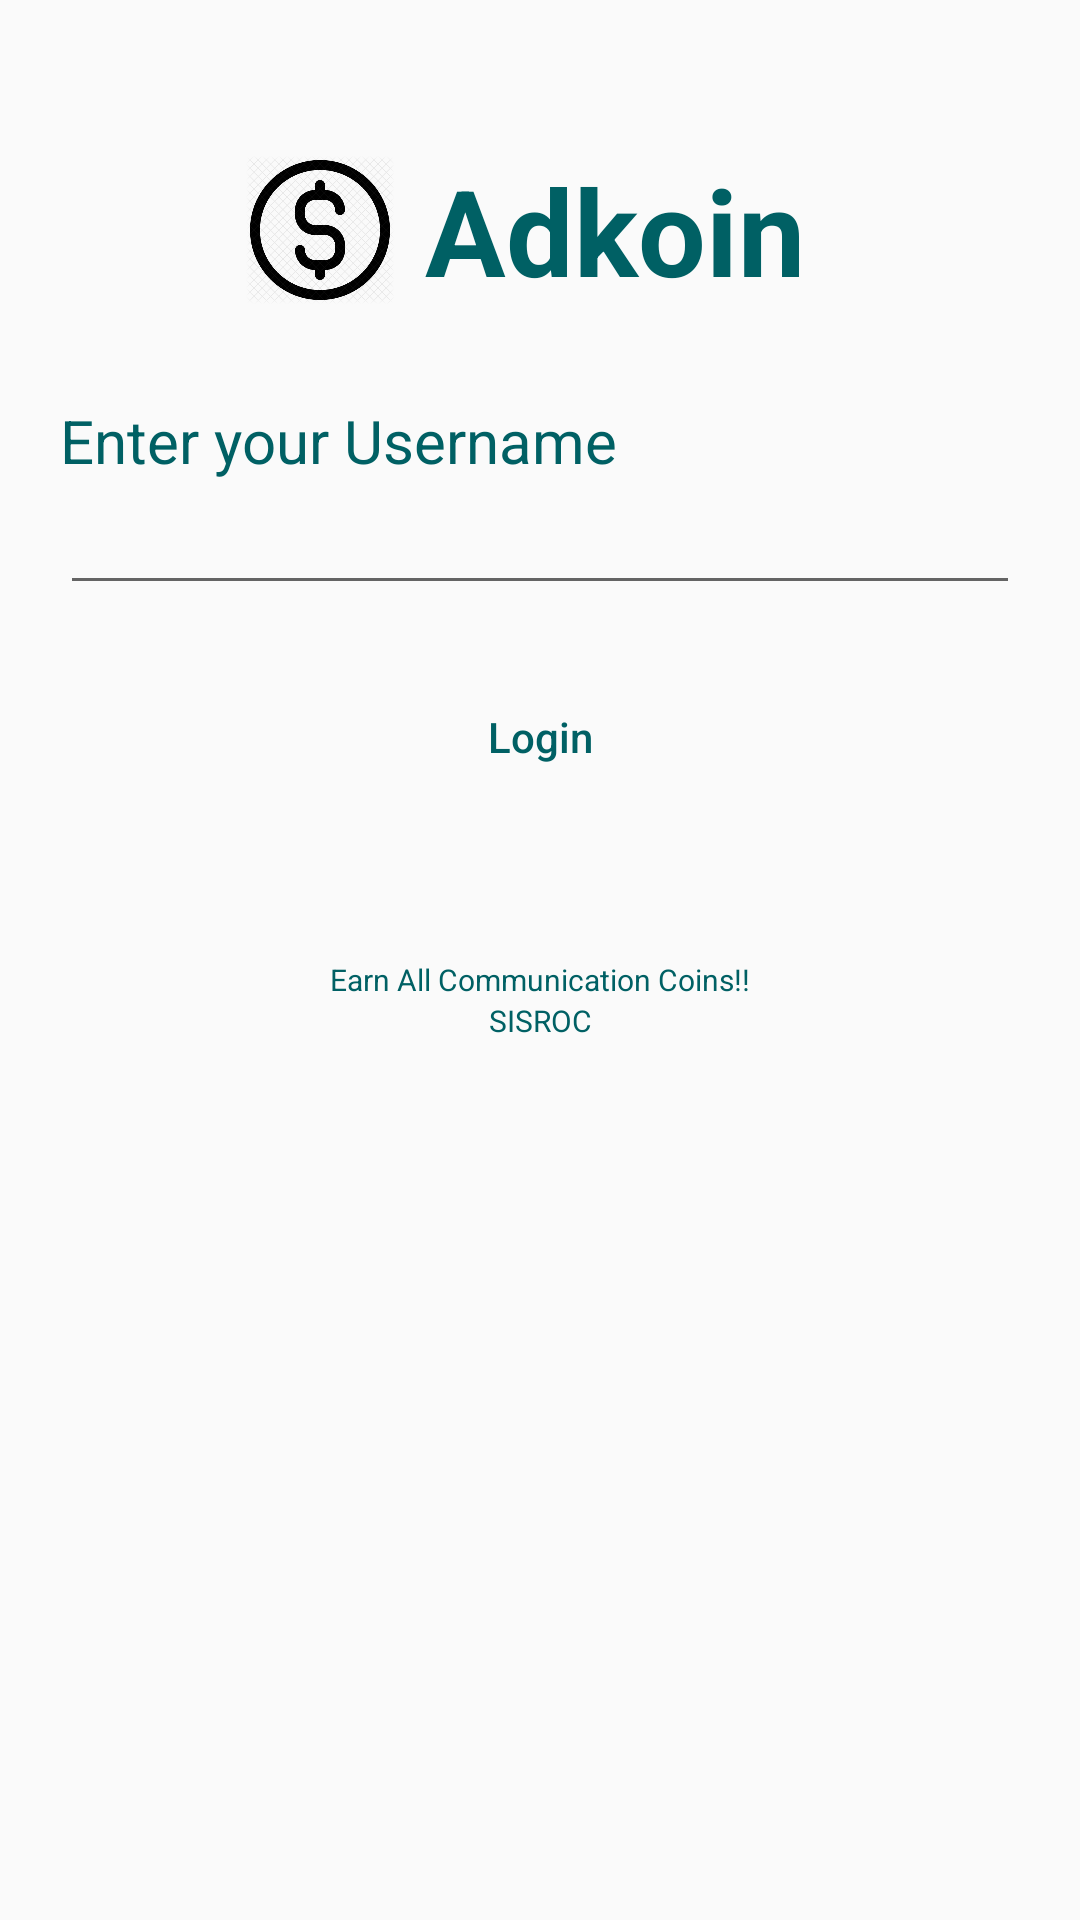

Named icons in this screenshot (1080px×1920px) and their centers, [x,y]:
coin: [320,230]
